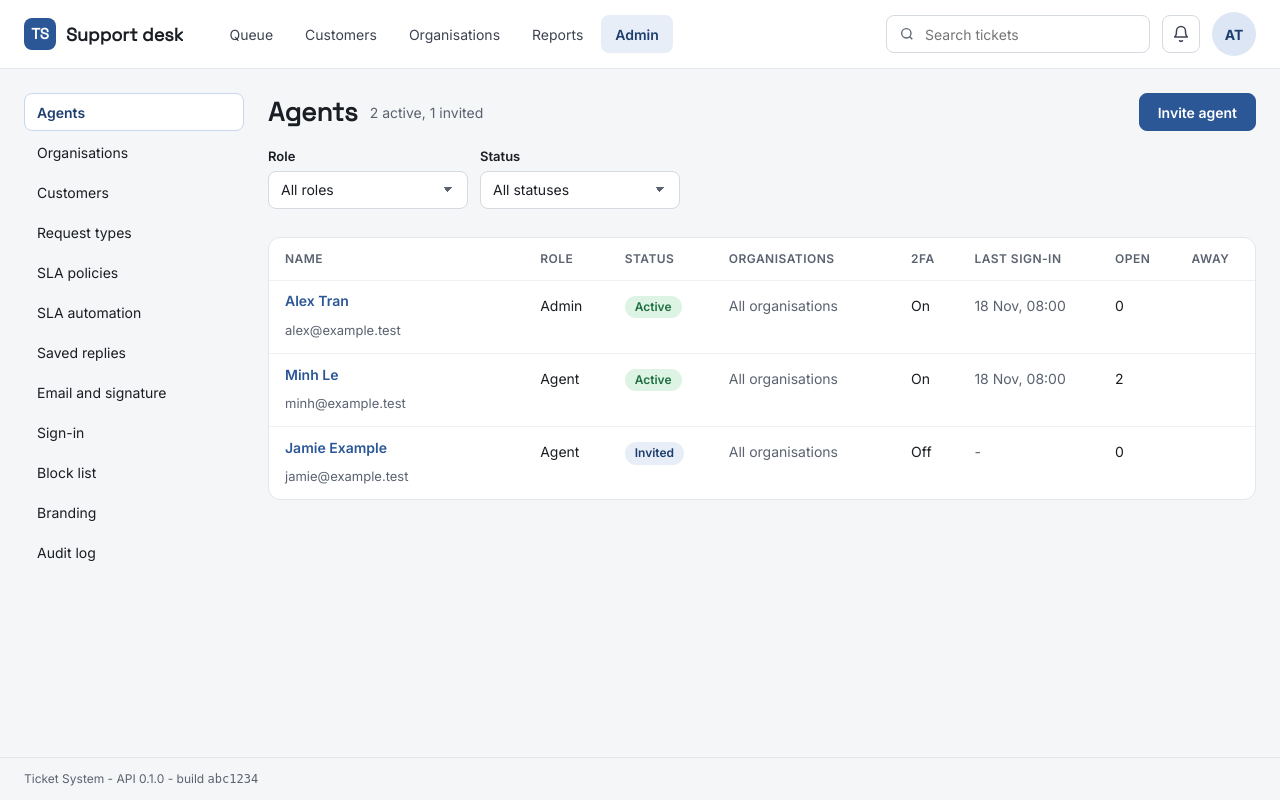
Test: Admin - Manage supporters › lists supporters from the API and filters by role and status
Expected: the button "Minh Le" is shown, [285,356,338,394]
Expected: the text "2 active, 1 invited" is shown, [370,102,483,122]
Select "Admins" in the dropdown labelled "Role" at (368, 190), box [268,170,468,208]
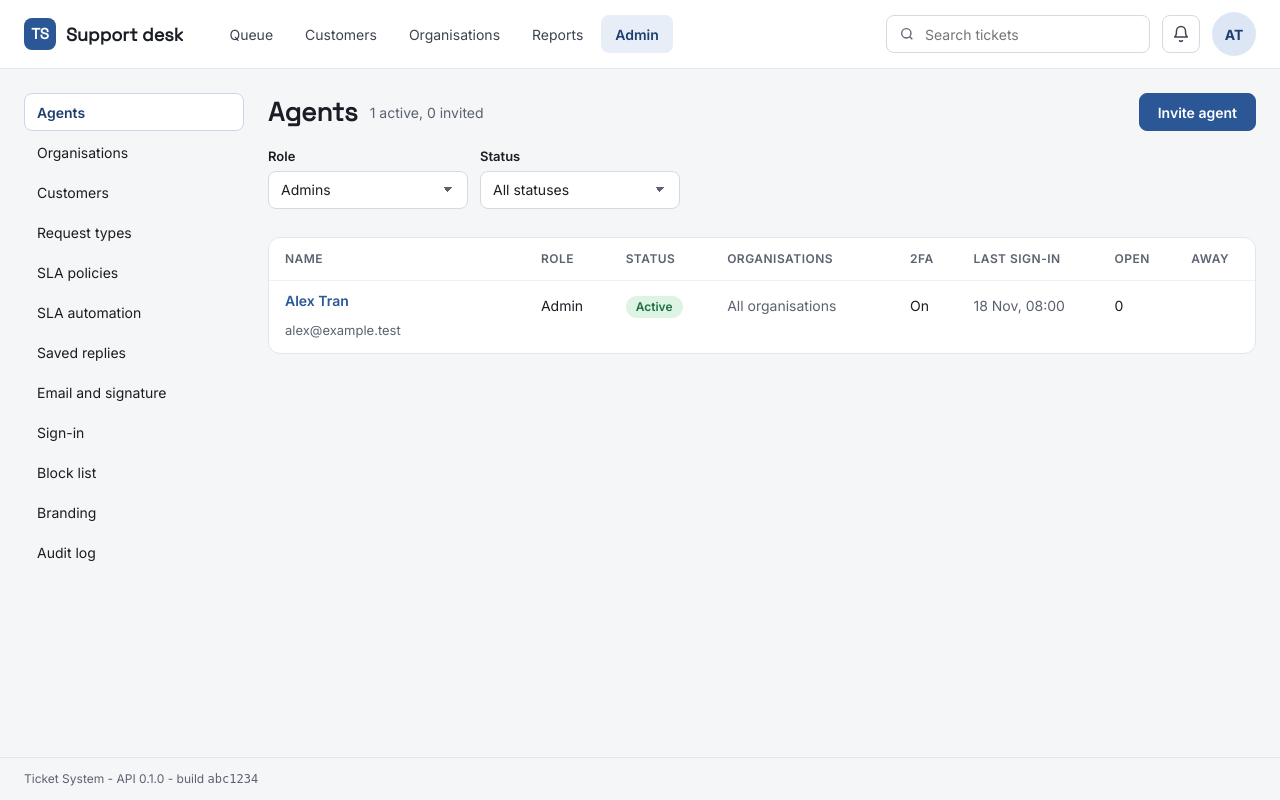
Expected: the button "Minh Le" is gone
Select "All roles" in the dropdown labelled "Role" at (368, 190), box [268,170,468,208]
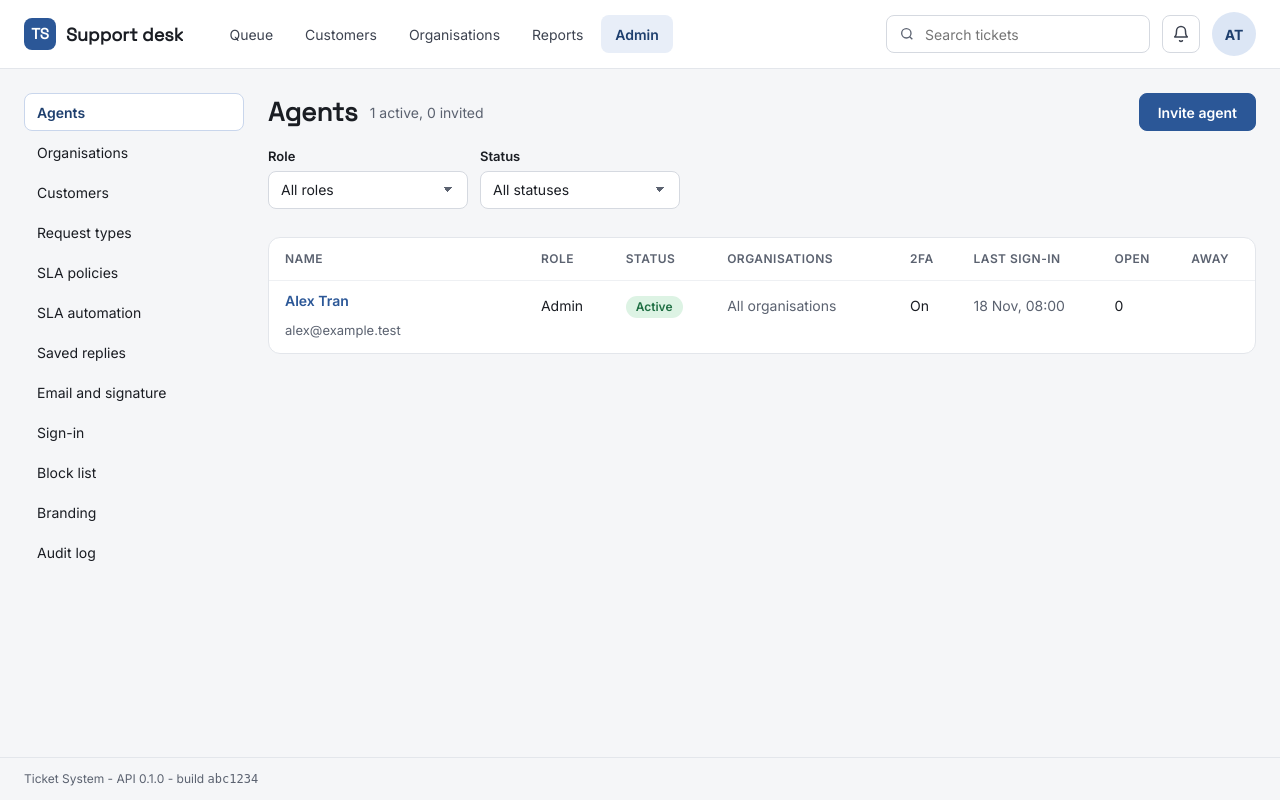
Select "Invited" in the dropdown labelled "Status" at (580, 190), box [480,170,680,208]
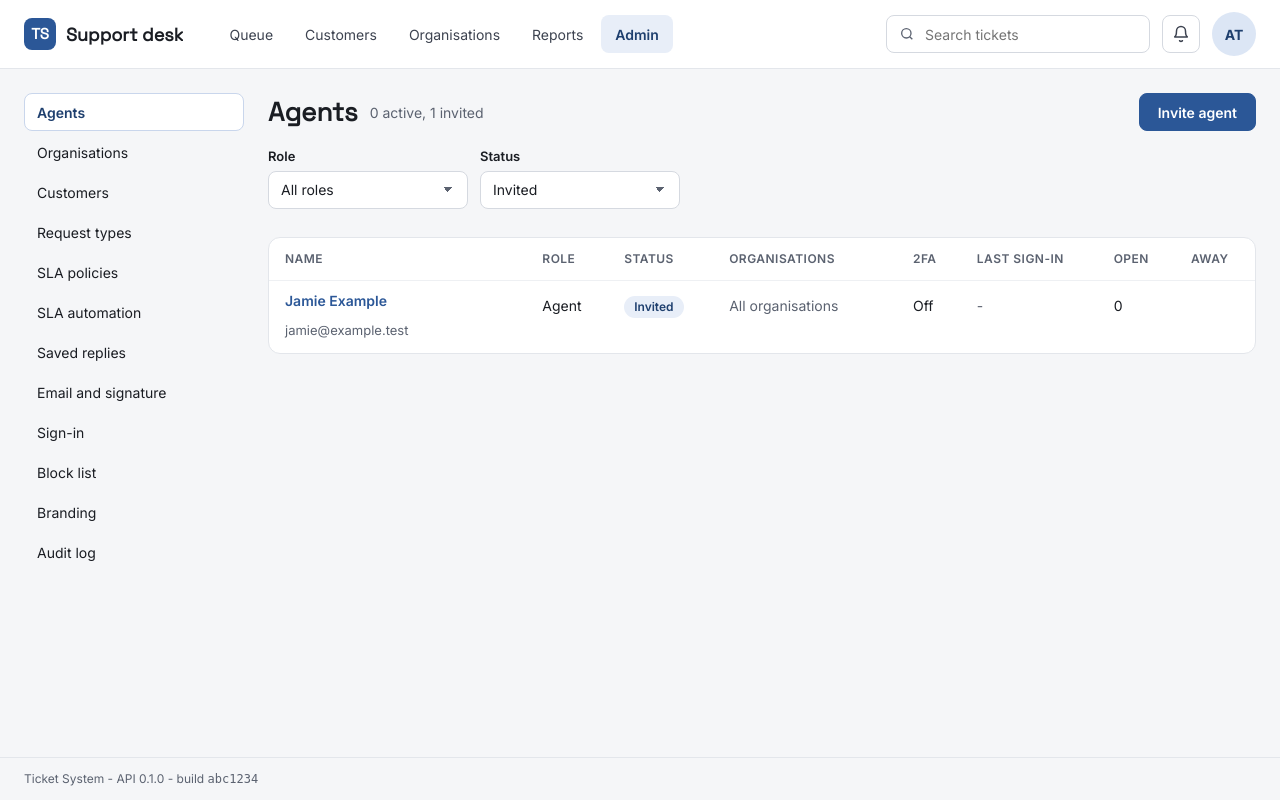
Expected: the button "Minh Le" is not shown
Expected: the button "Jamie Example" is shown, [285,282,387,320]
